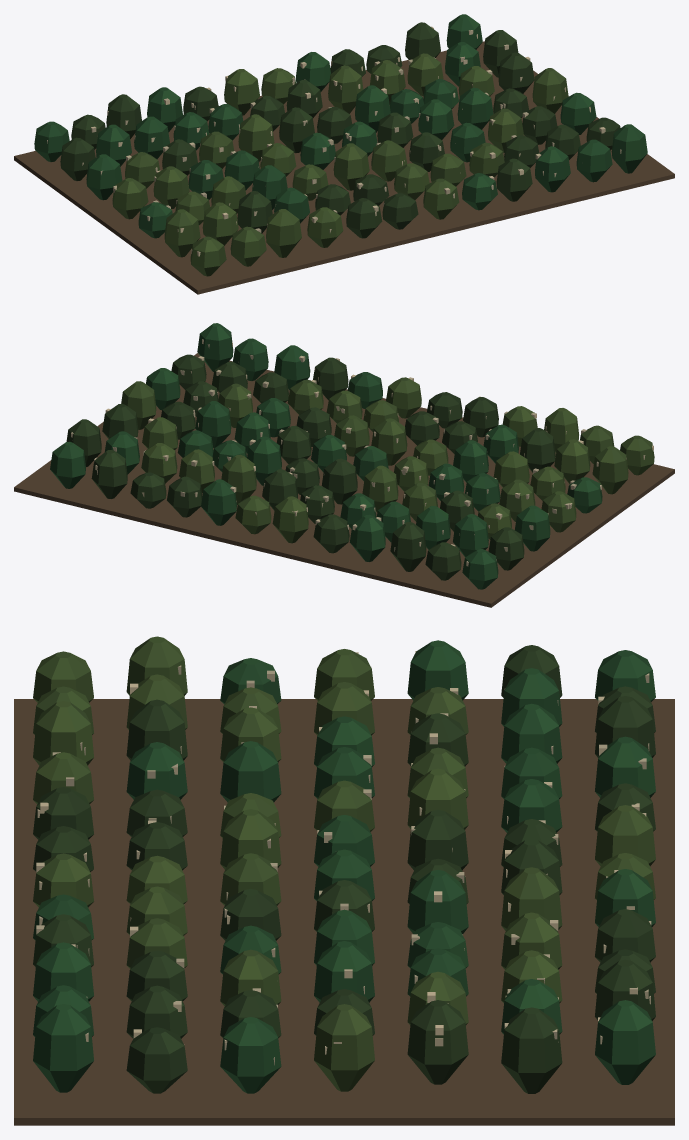
Rendered from walk_prop_field_bush.glb.
3 views of the same model, one above another, from view 1: azimuth 30°, elevation 25°; view 2: azimuth 150°, elevation 25°; view 3: azimuth 270°, elevation 25° (orthographic). The views are drawn at different scales.
Parts seen in each view (by area): view 1: walk_prop_field_bush; view 2: walk_prop_field_bush; view 3: walk_prop_field_bush.
Boxes of the visible parts, box(x1,y1,x2,y2) form: walk_prop_field_bush: box(14, 14, 674, 294); walk_prop_field_bush: box(14, 323, 674, 607); walk_prop_field_bush: box(14, 636, 674, 1125).
Bounding box in the file's own units: 12 × 1.23 × 8.
1 material, 1 textured.
